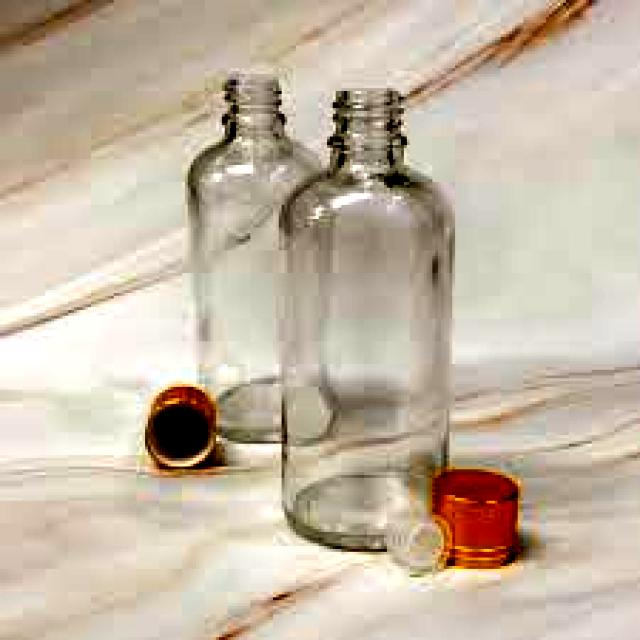Glass: (275, 86, 460, 559), (186, 71, 338, 449)
Metal: (428, 468, 518, 570)
